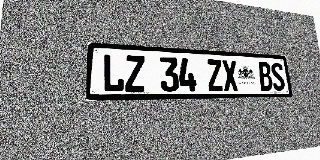3: (160, 57, 179, 92)
4: (178, 58, 197, 92)
B: (257, 62, 273, 91)
L: (102, 54, 124, 92)
S: (270, 62, 286, 91)
X: (221, 60, 239, 91)
Z: (125, 55, 146, 92), (206, 59, 224, 91)
